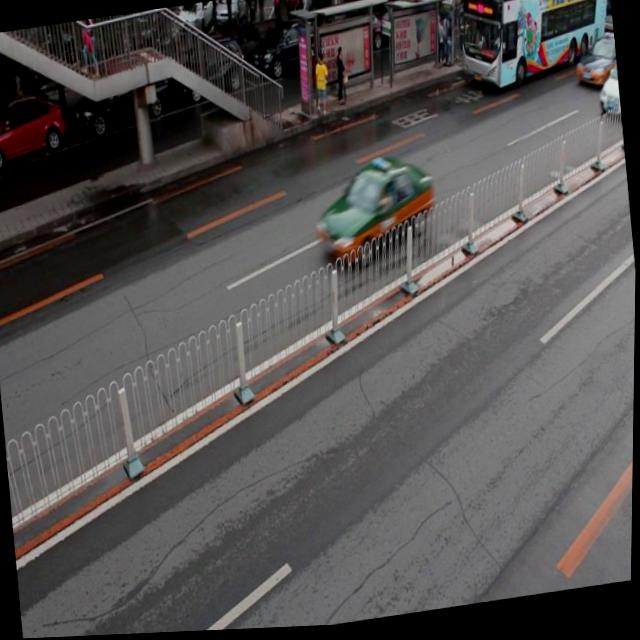car: (311, 153, 442, 273), (73, 60, 172, 139), (0, 92, 68, 173), (248, 19, 327, 86), (177, 35, 248, 109), (572, 35, 619, 96), (595, 63, 623, 127)
van: (453, 0, 618, 101)
